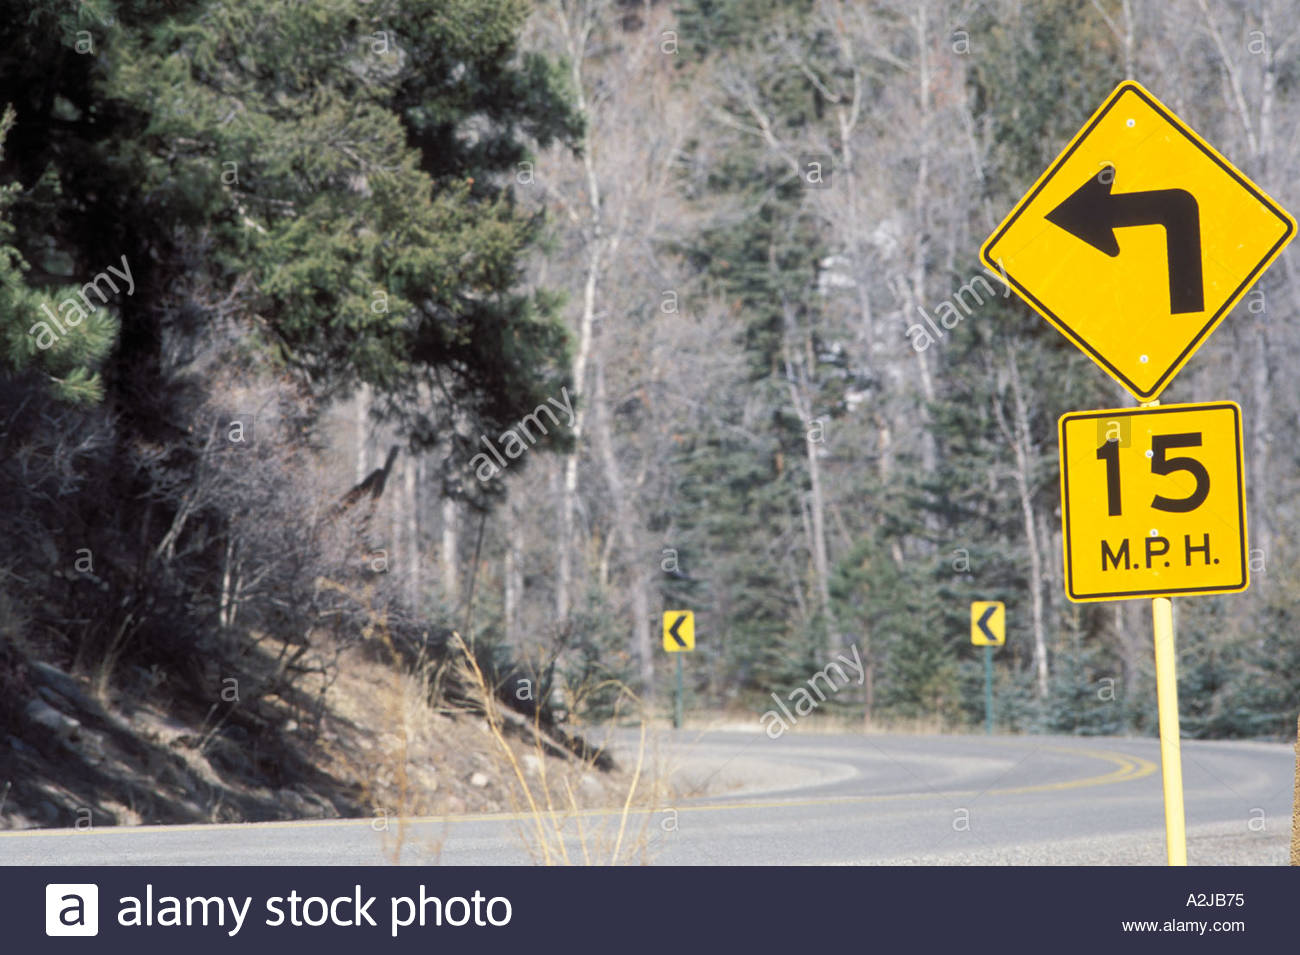left: (949, 72, 1300, 397)
